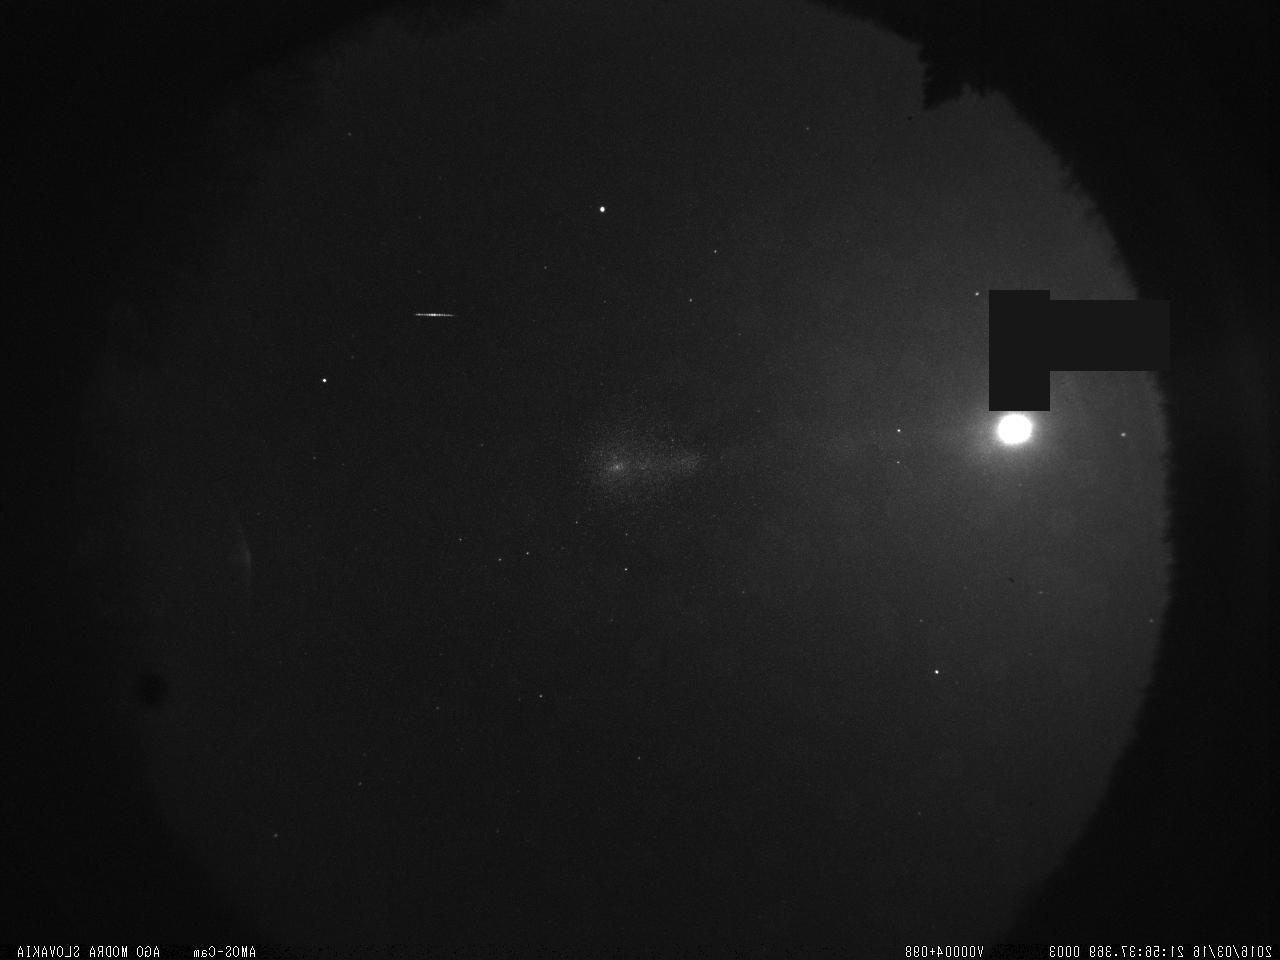meteor: (408, 299, 467, 332)
